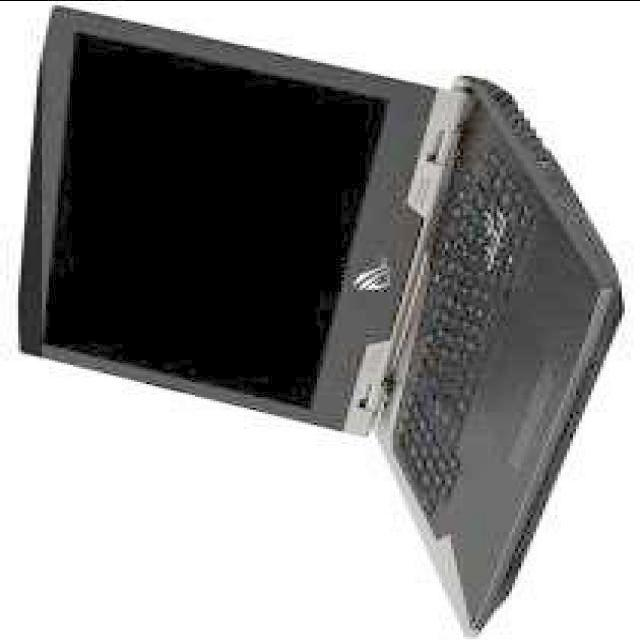-keyboard-: (42, 0, 619, 640)
